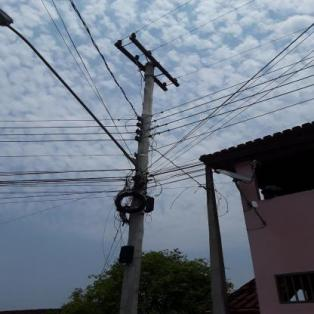Poste: (115, 61, 157, 314)
